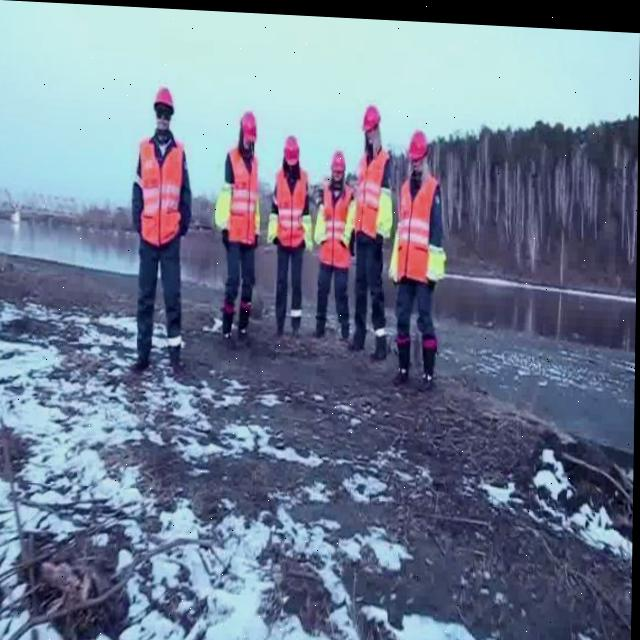Helmet: (408, 124, 427, 156), (240, 107, 257, 138), (362, 100, 380, 128), (154, 84, 174, 109), (330, 147, 345, 175), (284, 132, 298, 161)
No-Glove: (425, 239, 447, 277)
Safety-Vest: (136, 134, 184, 245), (392, 168, 440, 278), (353, 143, 390, 234), (227, 145, 259, 242), (274, 163, 307, 243)
